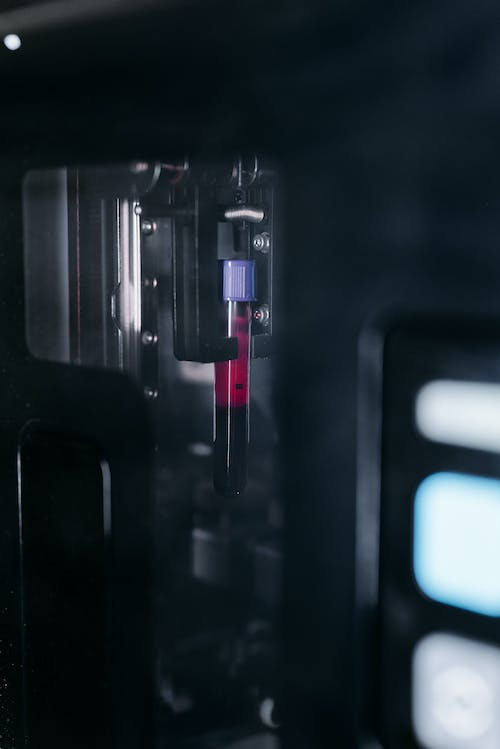blood: (206, 257, 258, 499)
